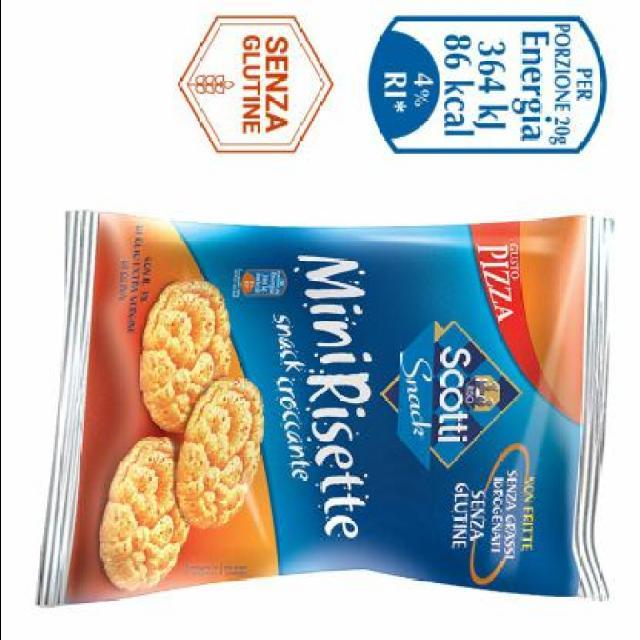Gallette di riso: (28, 196, 612, 630)
